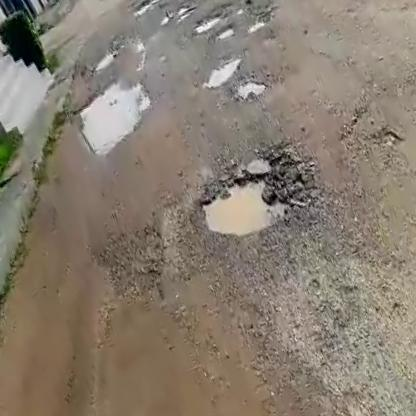pothole: (185, 143, 315, 252), (68, 66, 163, 156), (195, 51, 246, 91), (229, 68, 276, 107), (185, 7, 229, 36), (157, 0, 203, 27), (91, 50, 119, 71), (245, 18, 268, 37), (213, 25, 236, 43)
